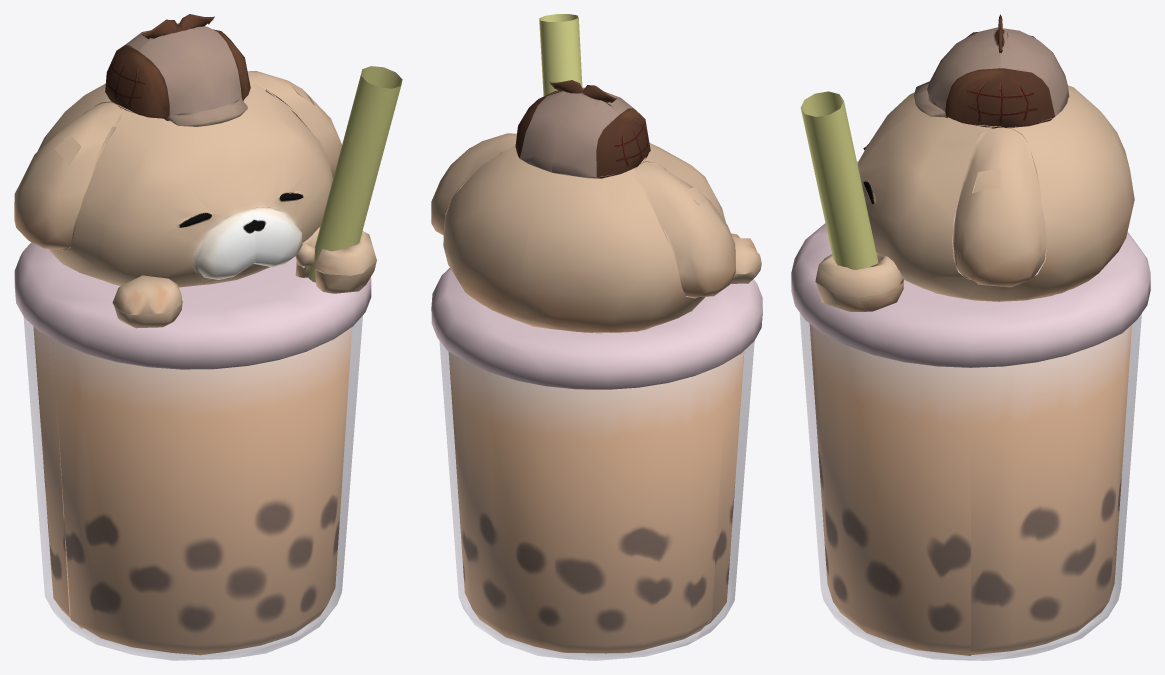
The model's file is bubble_tea.glb.
The picture shows the model from 3 angles, left to right: view 1: azimuth 30°, elevation 25°; view 2: azimuth 150°, elevation 25°; view 3: azimuth 270°, elevation 25°; orthographic projection. The views are drawn at different scales.
Visible parts, largest first — view 1: content_2; view 2: content_2; view 3: content_2.
Part boxes in pixels (box(x1,y1,x2,y2)): content_2: box(14, 14, 402, 660); content_2: box(431, 14, 762, 660); content_2: box(791, 14, 1150, 660).
Size of the model in its own units: 0.9193 by 1.63 by 0.9108.
5 materials, 2 textured.
